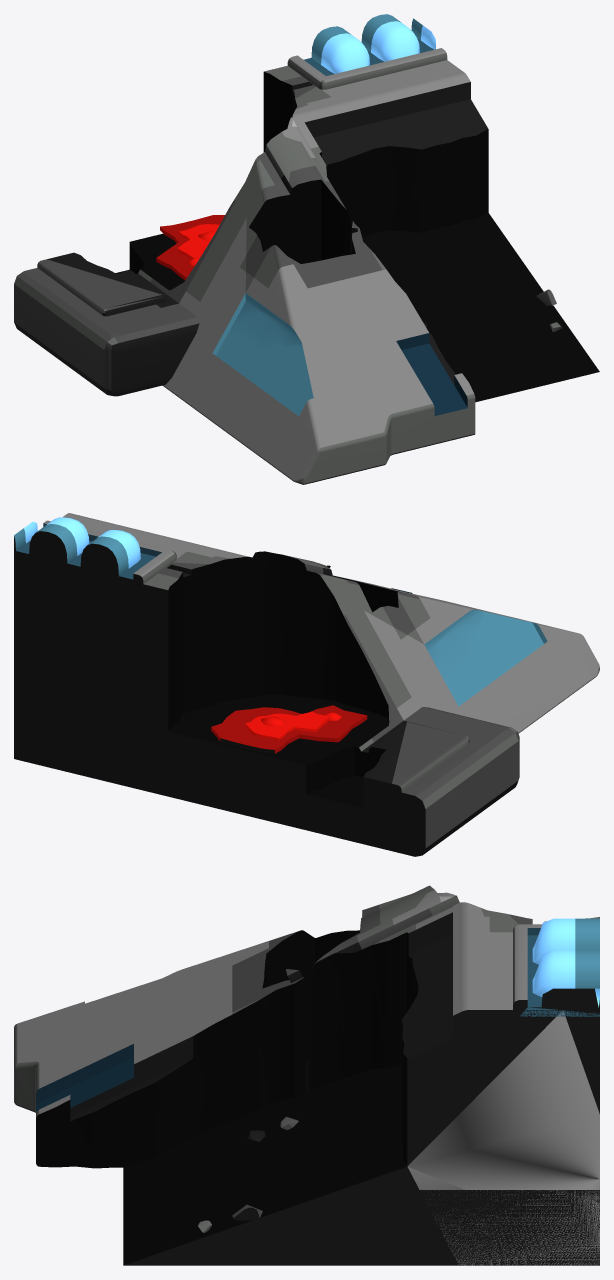
Rendered from ice_bunker_bl_wreck.glb.
3 renders of one model, top to bottom at view 1: azimuth 30°, elevation 25°; view 2: azimuth 150°, elevation 25°; view 3: azimuth 270°, elevation 25°, orthographic. The views are drawn at different scales.
Parts seen in each view (by area): view 1: ice_bunker_bl_wreck; view 2: ice_bunker_bl_wreck; view 3: ice_bunker_bl_wreck.
Part boxes in pixels (<box>): ice_bunker_bl_wreck: <box>14,14,599,484</box>; ice_bunker_bl_wreck: <box>14,513,599,856</box>; ice_bunker_bl_wreck: <box>14,885,599,1265</box>.
Bounding box in the file's own units: 24 × 13.12 × 23.9.
